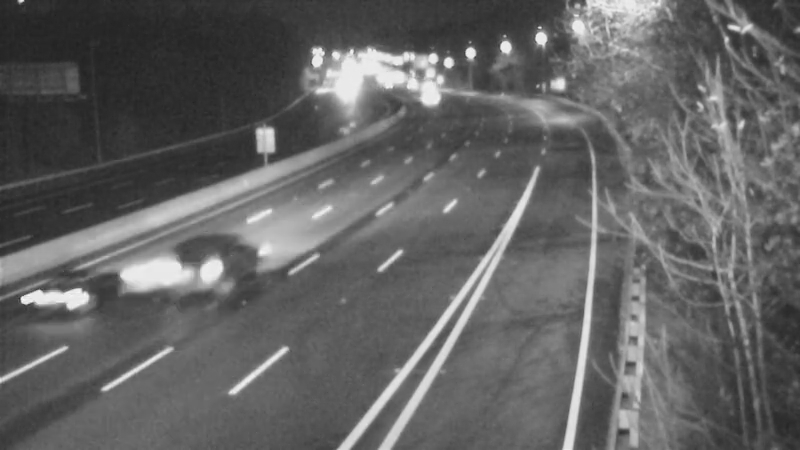vehicle: (154, 235, 234, 315), (15, 258, 95, 338), (406, 71, 456, 121)
